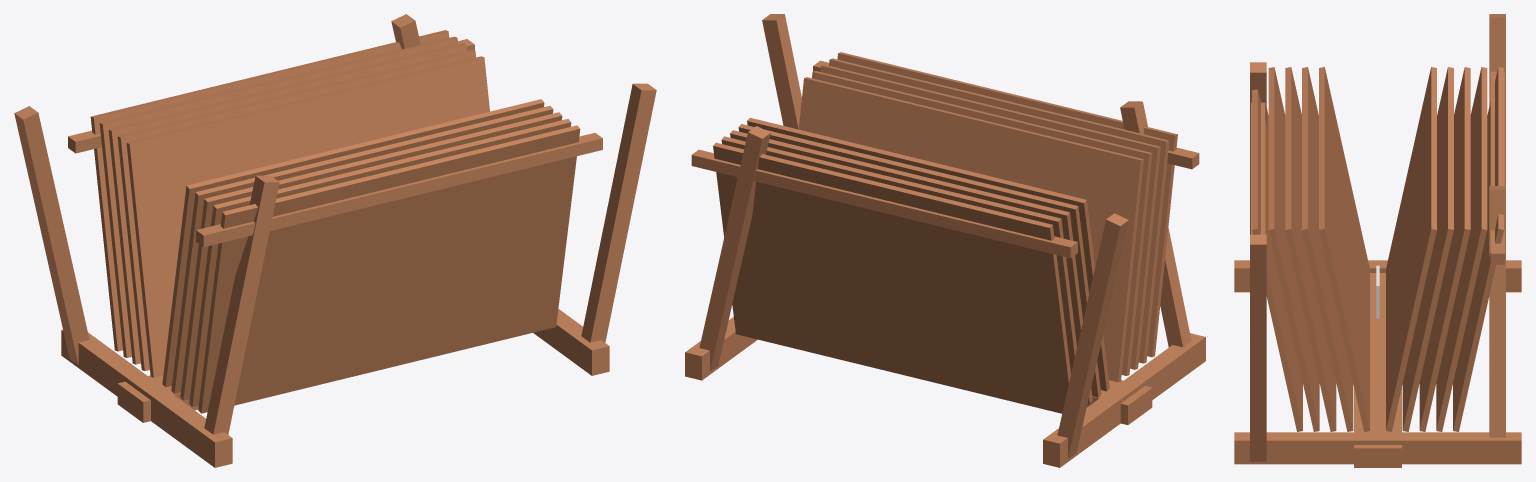
The model's file is shipyard-and-dry-dock-shipyard-and-dry-dock-plate-rack-708aa9b8__37957.glb.
3 renders of one model, left to right at view 1: azimuth 30°, elevation 25°; view 2: azimuth 150°, elevation 25°; view 3: azimuth 270°, elevation 25°, orthographic. The views are drawn at different scales.
Visible parts, largest first — view 1: shipyard-and-dry-dock-plate-rack; view 2: shipyard-and-dry-dock-plate-rack; view 3: shipyard-and-dry-dock-plate-rack.
Boxes of the visible parts, <box> form: shipyard-and-dry-dock-plate-rack: <box>14,14,656,467</box>; shipyard-and-dry-dock-plate-rack: <box>685,14,1205,467</box>; shipyard-and-dry-dock-plate-rack: <box>1234,14,1521,467</box>.
Bounding box in the file's own units: 4.56 × 2.29 × 2.4.
